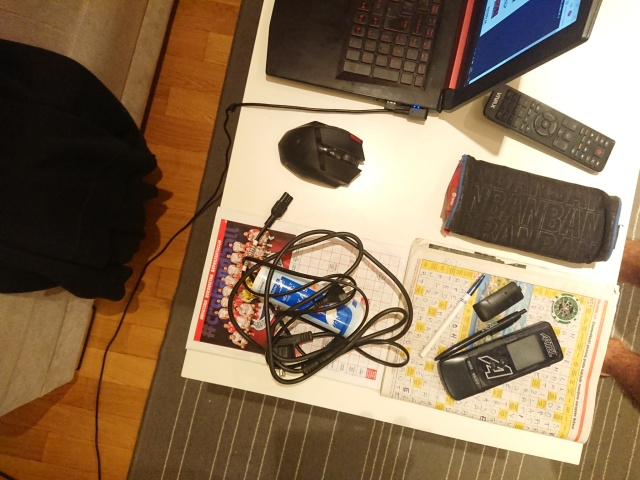Solana Pag Fine Sea Salt 250g: (249, 262, 367, 341)
